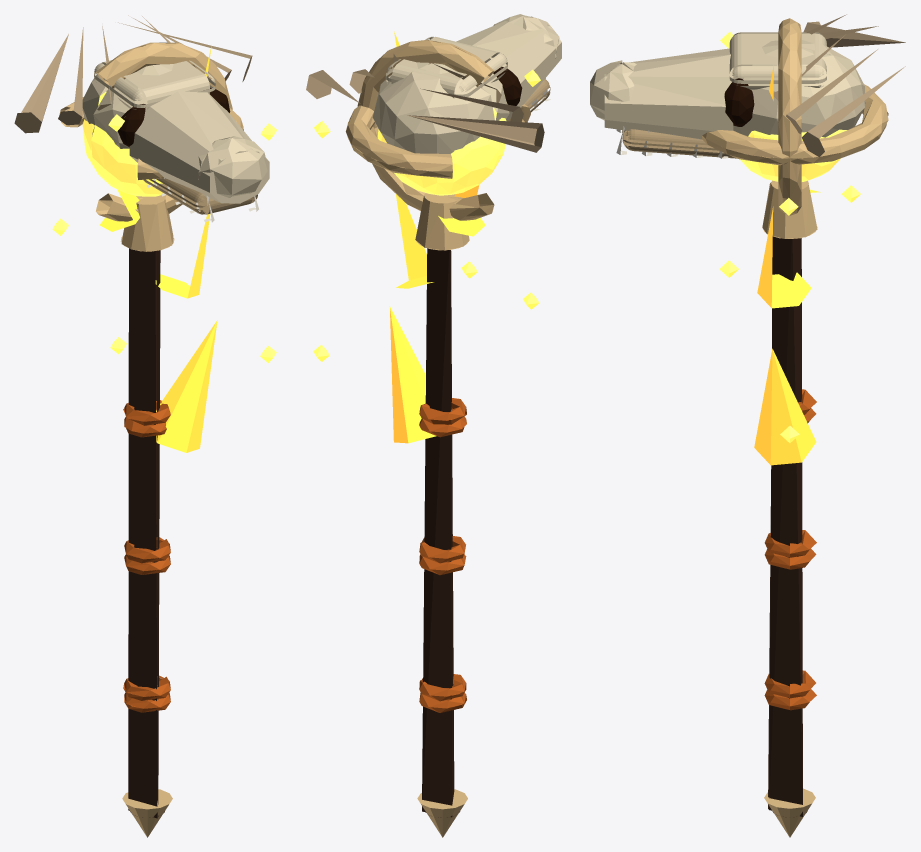
File: dragonheart_staff.glb
3 views of the same model, side by side, from view 1: azimuth 30°, elevation 25°; view 2: azimuth 150°, elevation 25°; view 3: azimuth 270°, elevation 25° (orthographic). The views are drawn at different scales.
Visible parts, largest first — view 1: dragonheart_staff; view 2: dragonheart_staff; view 3: dragonheart_staff.
Part boxes in pixels (x1,y1,x2,y2): dragonheart_staff: [14, 15, 276, 837]; dragonheart_staff: [306, 14, 561, 837]; dragonheart_staff: [590, 14, 905, 837].
Size of the model in its own units: 0.6919 by 2.15 by 0.758.
